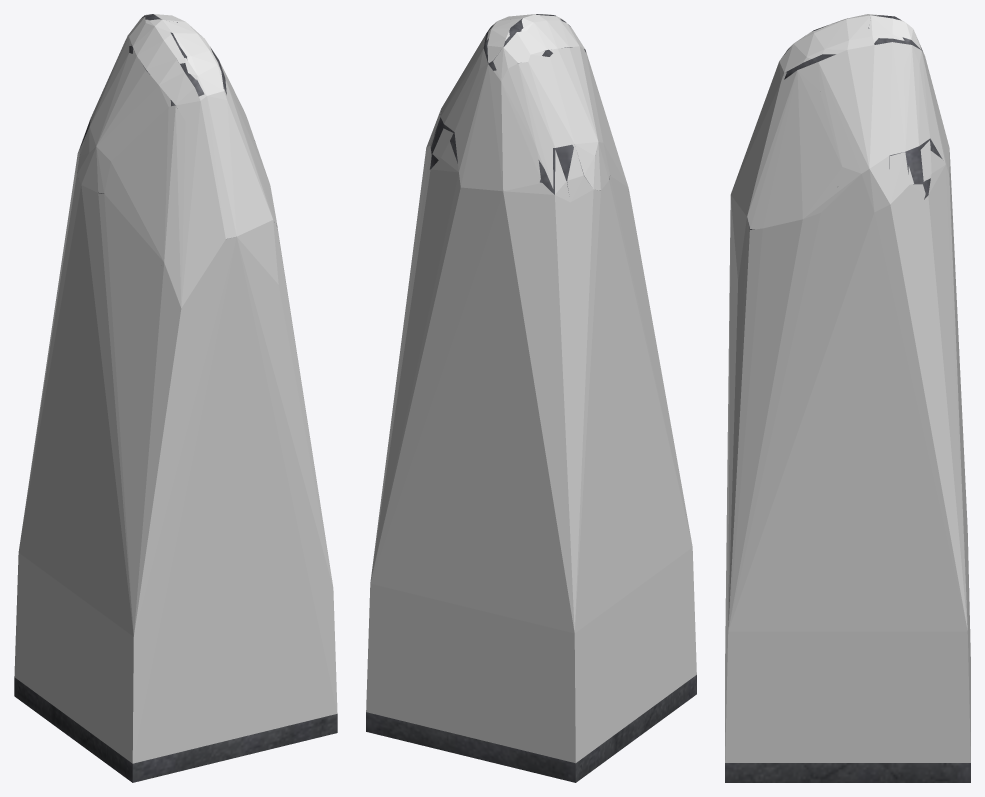
File: statue_hooded.low.webp.glb
The picture shows the model from 3 angles, left to right: view 1: azimuth 30°, elevation 25°; view 2: azimuth 150°, elevation 25°; view 3: azimuth 270°, elevation 25°; orthographic projection. The views are drawn at different scales.
Visible parts, largest first — view 1: COL, FRAC_8_l1, FRAC_7_l1, FRAC_6_l1; view 2: COL, FRAC_8_l1, FRAC_7_l1, FRAC_2_l1; view 3: COL, FRAC_7_l1, FRAC_6_l1, FRAC_2_l1.
Part boxes in pixels (x1,y1,x2,y2): COL: (14, 14, 337, 763); FRAC_8_l1: (14, 677, 182, 782); FRAC_7_l1: (180, 714, 337, 770); FRAC_6_l1: (129, 14, 226, 108); COL: (366, 14, 696, 763); FRAC_8_l1: (445, 675, 696, 782); FRAC_7_l1: (366, 712, 447, 750); FRAC_2_l1: (429, 123, 609, 194); COL: (725, 14, 970, 762); FRAC_7_l1: (725, 763, 970, 782); FRAC_6_l1: (782, 15, 922, 165); FRAC_2_l1: (747, 138, 942, 229).
Size of what is drawn, in the model's own units: 1.56 by 5 by 1.56.
1 material, 1 textured.
